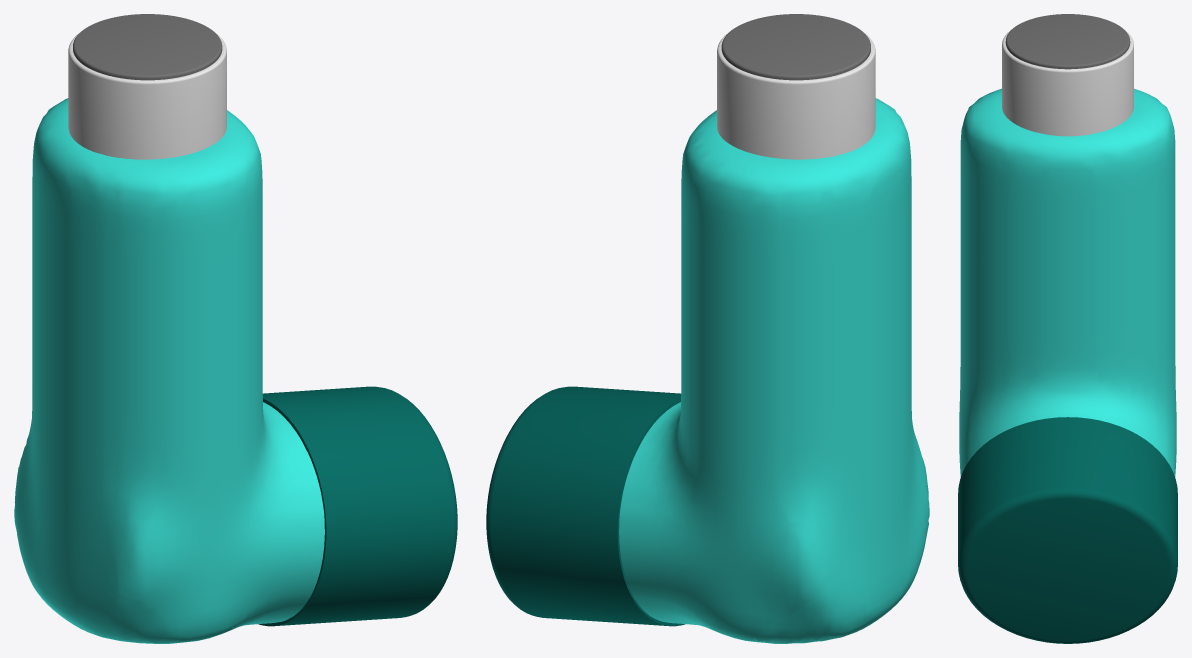
Rendered from SimpleInhaler.fbx.
3 renders of one model, left to right at view 1: azimuth 30°, elevation 25°; view 2: azimuth 150°, elevation 25°; view 3: azimuth 270°, elevation 25°, orthographic. The views are drawn at different scales.
Parts seen in each view (by area): view 1: Cylinder.001, Cylinder.003, Cylinder.002, Cylinder.004; view 2: Cylinder.001, Cylinder.003, Cylinder.002, Cylinder.004; view 3: Cylinder.001, Cylinder.003, Cylinder.002, Cylinder.004.
Boxes of the visible parts, x1,y1,x2,y2 form: Cylinder.001: (14,98,324,643); Cylinder.003: (258,386,457,626); Cylinder.002: (68,33,226,159); Cylinder.004: (73,14,222,80); Cylinder.001: (619,98,929,643); Cylinder.003: (486,386,685,626); Cylinder.002: (717,33,875,159); Cylinder.004: (721,14,870,80); Cylinder.001: (959,88,1176,477); Cylinder.003: (958,417,1177,643); Cylinder.002: (1002,30,1133,136); Cylinder.004: (1005,14,1130,69).
Bounding box in the file's own units: 155 × 257 × 100.
